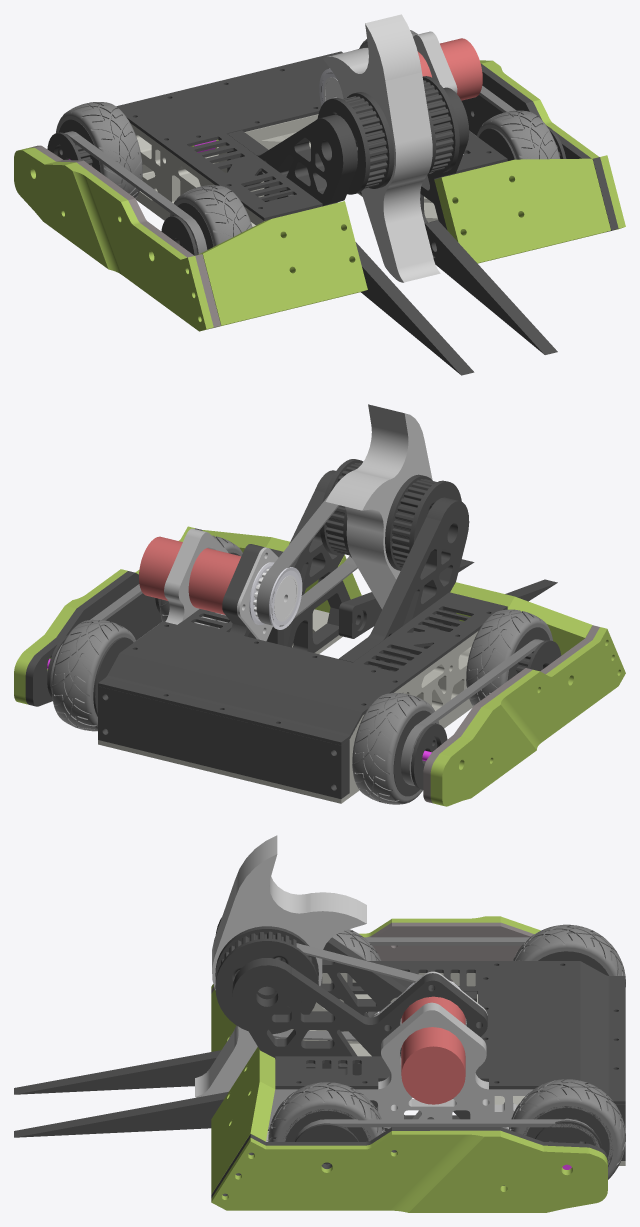
Rendered from Robot7.glb.
3 views of the same model, one above another, from view 1: azimuth 30°, elevation 25°; view 2: azimuth 150°, elevation 25°; view 3: azimuth 270°, elevation 25° (orthographic). The views are drawn at different scales.
Visible parts, largest first — view 1: Weapon_Pivot, Chassis, Armor_Top, Armor_Side_L, Armor_Wedge_R, Armor_Wedge_L, Wheel_Rear_L, Armor_Side_R, Armor_Fork_R, Wheel_Front_L, Armor_Fork_L, Wheel_Front_R; view 2: Chassis, Armor_Top, Armor_Side_L, Weapon_Pivot, Armor_Rear, Wheel_Rear_L, Armor_Side_R, Wheel_Rear_R, Wheel_Front_L, Armor_Wedge_L, Armor_Fork_R, Armor_Wedge_R; view 3: Chassis, Armor_Side_R, Armor_Top, Weapon_Pivot, Wheel_Rear_R, Armor_Side_L, Wheel_Front_R, Armor_Wedge_R, Armor_Fork_R, Armor_Fork_L, Wheel_Rear_L, Armor_Wedge_L (+1 smaller).
Boxes of the visible parts, bbox=[...] form: Weapon_Pivot: bbox=[317, 14, 459, 282]; Chassis: bbox=[64, 31, 516, 254]; Armor_Top: bbox=[116, 51, 507, 220]; Armor_Side_L: bbox=[14, 145, 220, 331]; Armor_Wedge_R: bbox=[434, 158, 610, 263]; Armor_Wedge_L: bbox=[198, 201, 367, 327]; Wheel_Rear_L: bbox=[47, 102, 142, 198]; Armor_Side_R: bbox=[461, 60, 625, 232]; Armor_Fork_R: bbox=[424, 220, 557, 354]; Wheel_Front_L: bbox=[161, 185, 252, 255]; Armor_Fork_L: bbox=[355, 242, 474, 375]; Wheel_Front_R: bbox=[477, 110, 566, 160]; Chassis: bbox=[47, 470, 544, 803]; Armor_Top: bbox=[98, 548, 507, 745]; Armor_Side_L: bbox=[423, 625, 625, 806]; Weapon_Pivot: bbox=[320, 404, 461, 609]; Armor_Rear: bbox=[98, 686, 349, 798]; Wheel_Rear_L: bbox=[352, 693, 447, 804]; Armor_Side_R: bbox=[14, 526, 202, 706]; Wheel_Rear_R: bbox=[47, 619, 135, 731]; Wheel_Front_L: bbox=[466, 609, 561, 706]; Armor_Wedge_L: bbox=[450, 582, 592, 655]; Armor_Fork_R: bbox=[338, 559, 474, 638]; Armor_Wedge_R: bbox=[202, 530, 361, 612]; Chassis: bbox=[232, 937, 625, 1169]; Armor_Side_R: bbox=[211, 1127, 607, 1212]; Armor_Top: bbox=[275, 961, 625, 1104]; Weapon_Pivot: bbox=[195, 835, 366, 1097]; Wheel_Rear_R: bbox=[509, 1079, 625, 1179]; Armor_Side_L: bbox=[211, 916, 540, 993]; Wheel_Front_R: bbox=[268, 1082, 384, 1165]; Armor_Wedge_R: bbox=[211, 1047, 275, 1194]; Armor_Fork_R: bbox=[14, 1091, 228, 1137]; Armor_Fork_L: bbox=[14, 1050, 221, 1094]; Wheel_Rear_L: bbox=[513, 924, 625, 986]; Armor_Wedge_L: bbox=[211, 989, 236, 1051].
Bounding box in the file's own units: 1.99 × 1.13 × 2.33.
